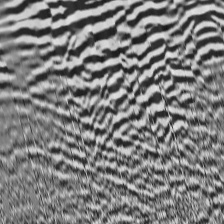cavities: (5, 0, 224, 94)
